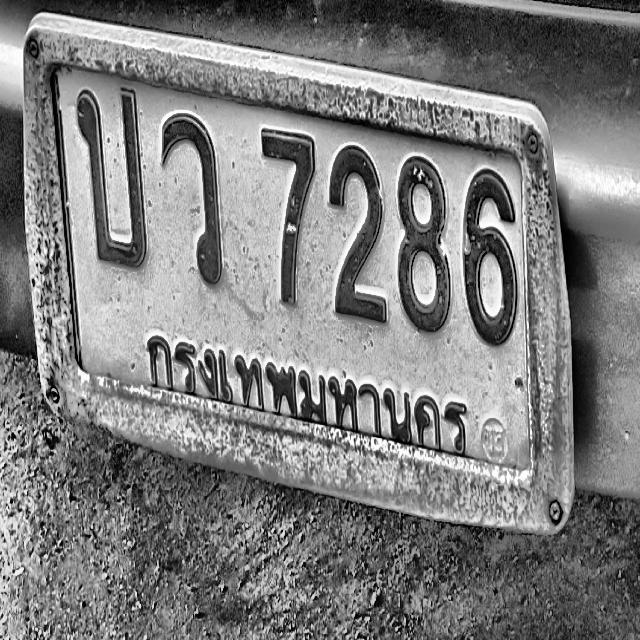license-plate: (12, 0, 582, 544)
